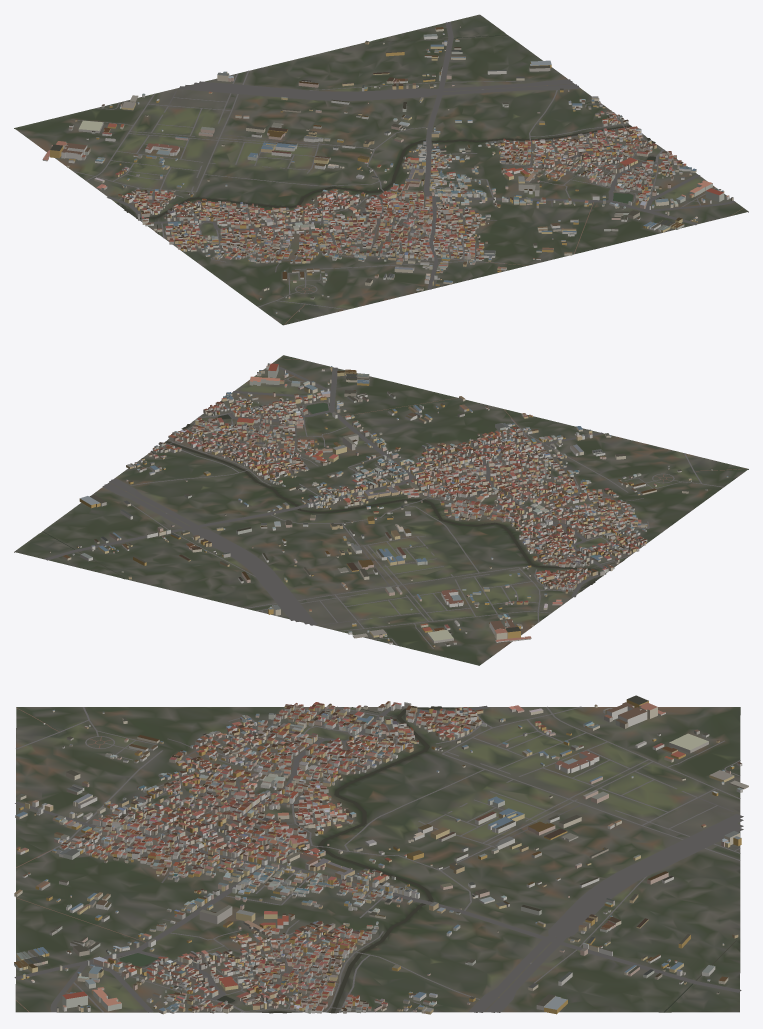
3 views of the same model, one above another, from view 1: azimuth 30°, elevation 25°; view 2: azimuth 150°, elevation 25°; view 3: azimuth 270°, elevation 25° (orthographic). The views are drawn at different scales.
Parts seen in each view (by area): view 1: ground, buildings, roads, water; view 2: ground, buildings, roads, water; view 3: ground, buildings, roads, water.
Part boxes in pixels (x1=…): ground: x1=14, y1=14, x2=748, y2=325; buildings: x1=42, y1=25, x2=733, y2=313; roads: x1=71, y1=22, x2=743, y2=324; water: x1=117, y1=35, x2=655, y2=234; ground: x1=14, y1=355, x2=748, y2=665; buildings: x1=49, y1=363, x2=728, y2=646; roads: x1=44, y1=358, x2=746, y2=648; water: x1=42, y1=403, x2=623, y2=590; ground: x1=15, y1=707, x2=740, y2=1013; buildings: x1=14, y1=695, x2=748, y2=1014; roads: x1=14, y1=705, x2=743, y2=1012; water: x1=120, y1=706, x2=736, y2=1013.
Bounding box in the file's own units: 1443 × 25.23 × 1422.
